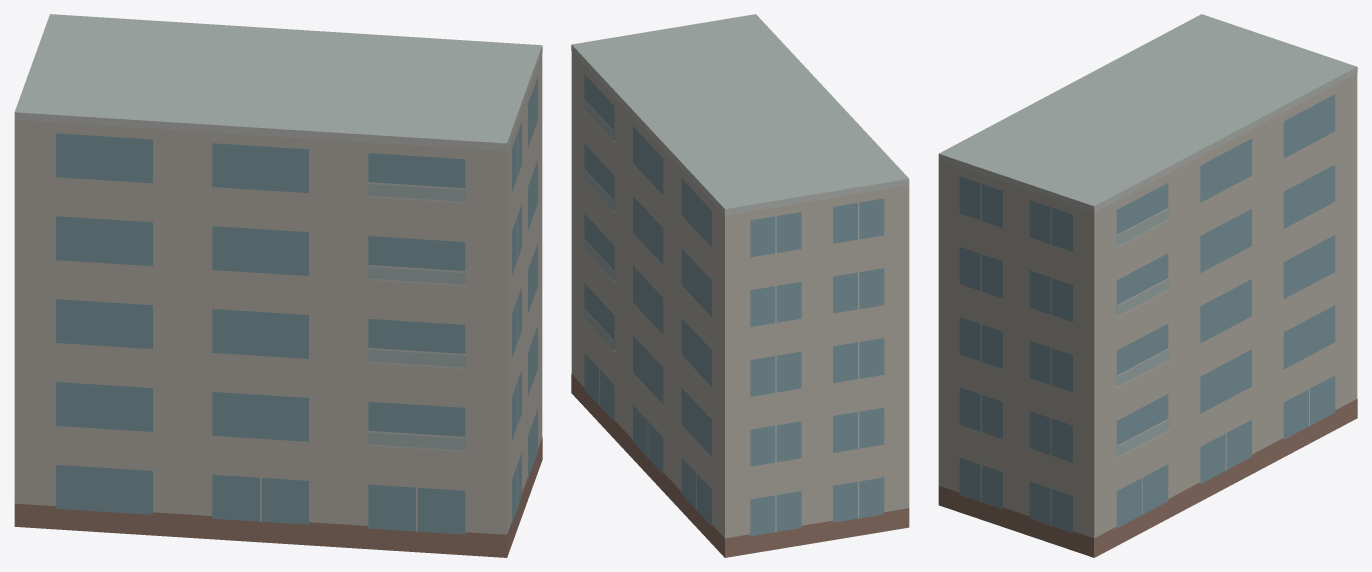
File: survey-upis-32851470.glb
3 renders of one model, left to right at view 1: azimuth 30°, elevation 25°; view 2: azimuth 150°, elevation 25°; view 3: azimuth 270°, elevation 25°, orthographic. The views are drawn at different scales.
Visible parts, largest first — view 1: survey-upis-32851470.tmp; view 2: survey-upis-32851470.tmp; view 3: survey-upis-32851470.tmp.
Part boxes in pixels (<box>): survey-upis-32851470.tmp: <box>14,14,542,557</box>; survey-upis-32851470.tmp: <box>571,14,909,557</box>; survey-upis-32851470.tmp: <box>938,14,1357,557</box>.
Size of the model in its own units: 15.62 by 13.3 by 14.37.
